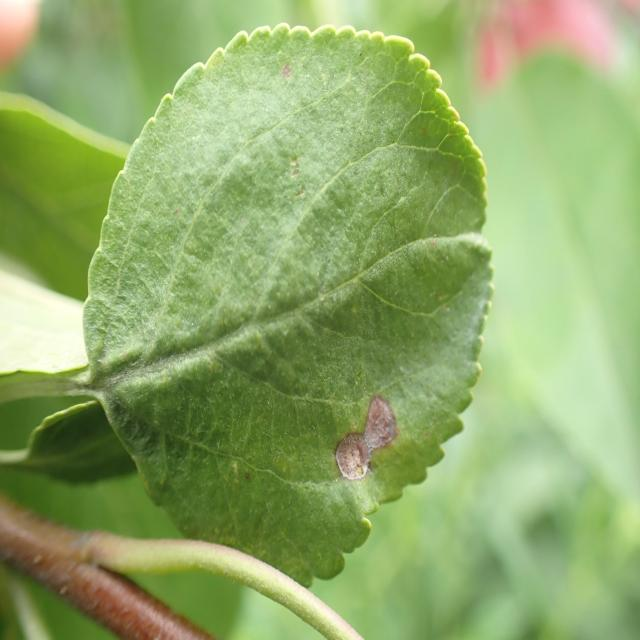Black Rot: (328, 378, 416, 498)
